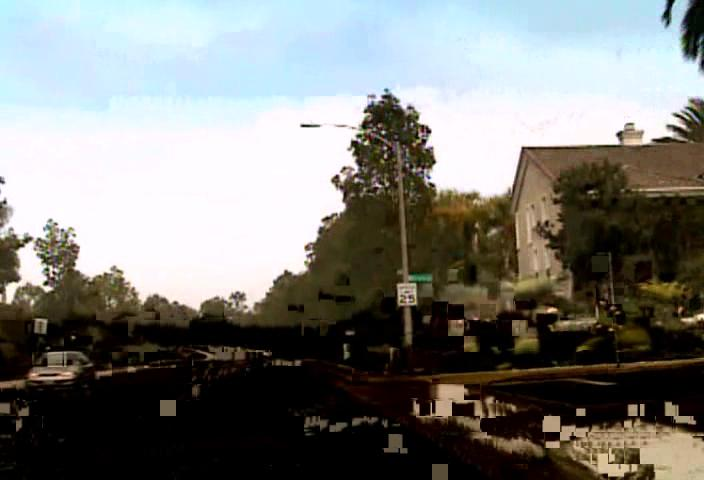speedLimit25: (395, 282, 417, 306)
